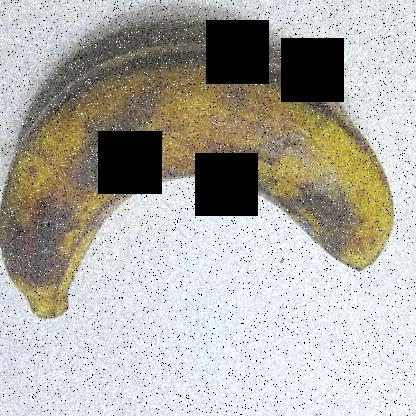overripe: (1, 11, 405, 348)
